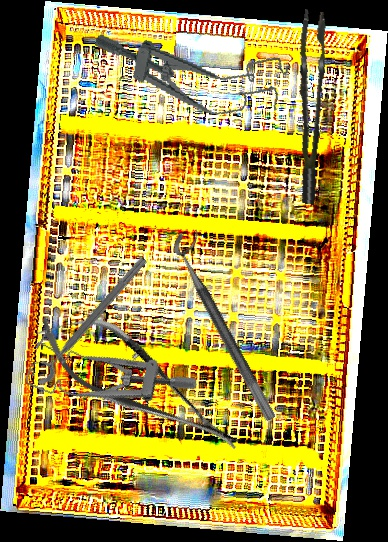Fixation Ring: (168, 226, 292, 422), (23, 247, 152, 388)
Micro Scissor: (23, 289, 256, 478)
Speculum: (20, 315, 200, 445), (86, 20, 292, 128)
Tissue Forceps: (275, 9, 344, 205)
